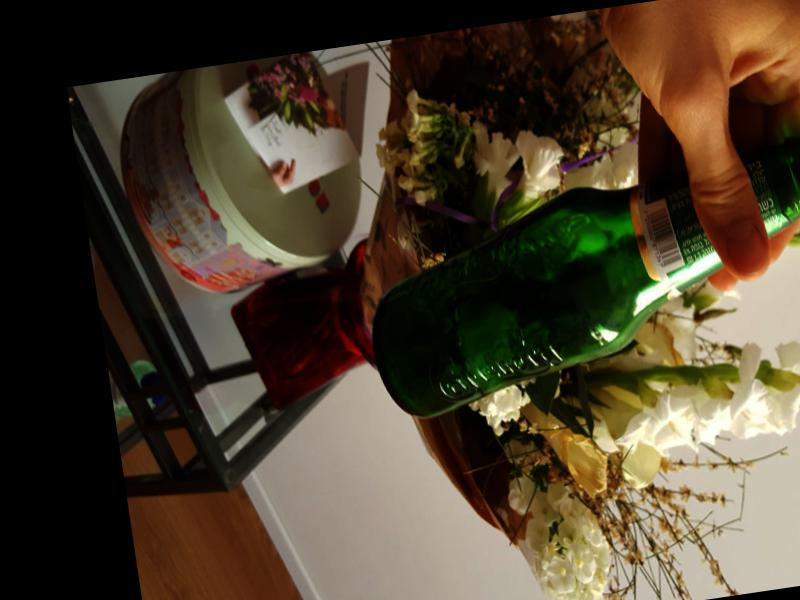Beer: (355, 151, 800, 423)
